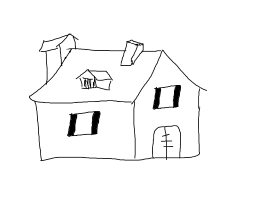chimney: (121, 39, 144, 66)
door: (148, 120, 185, 163)
open_window: (68, 111, 102, 137), (151, 83, 181, 108)
roof: (26, 48, 206, 103)
wall: (33, 97, 140, 164)
